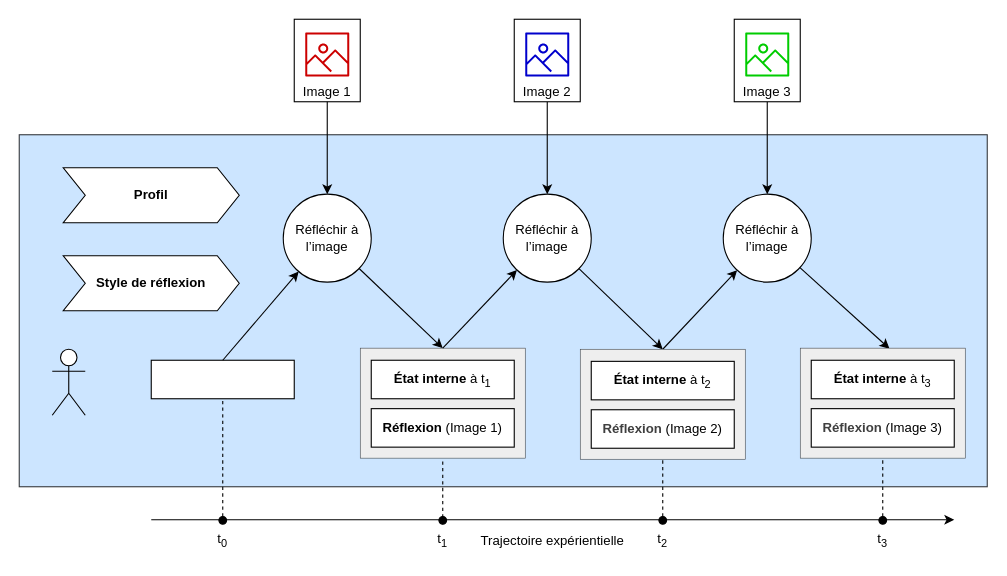
Some shapes in this 1007 by 576 pixel diagram are drawn without their labels. The centre of each missing label's shape, as x and y in pixels:
Regardeur simulé: pixel 68 381
État interne à t 0: pixel 222 379
